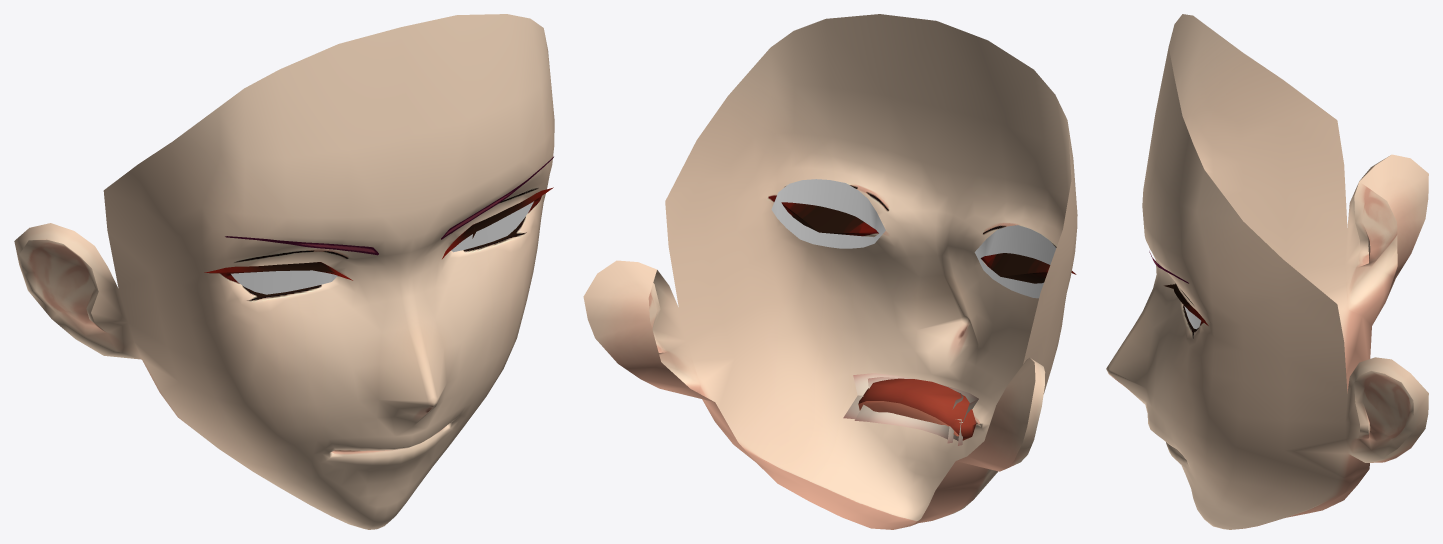
Rendered from Ibara.fbx.
3 renders of one model, left to right at view 1: azimuth 30°, elevation 25°; view 2: azimuth 150°, elevation 25°; view 3: azimuth 270°, elevation 25°, orthographic. The views are drawn at different scales.
Visible parts, largest first — view 1: M_Head, M_Eye_B_Def, M_Mth_B_Def, M_PupALL_R_A_Def, M_Brw_B_Def, M_PupALL_L_A_Def; view 2: M_Head, M_Eye_B_Def, M_Mth_B_Def, M_PupALL_L_A_Def, M_PupALL_R_A_Def; view 3: M_Head, M_Eye_B_Def, M_Mth_B_Def.
Boxes of the visible parts, x1,y1,x2,y2 form: M_Head: (14, 14, 554, 381); M_Eye_B_Def: (142, 121, 554, 406); M_Mth_B_Def: (142, 339, 516, 529); M_PupALL_R_A_Def: (231, 270, 337, 294); M_Brw_B_Def: (225, 156, 553, 255); M_PupALL_L_A_Def: (451, 201, 533, 252); M_Head: (583, 14, 1077, 471); M_Eye_B_Def: (700, 133, 1077, 393); M_Mth_B_Def: (699, 319, 1018, 529); M_PupALL_L_A_Def: (771, 179, 885, 248); M_PupALL_R_A_Def: (974, 225, 1056, 298); M_Head: (1142, 14, 1428, 462); M_Eye_B_Def: (1106, 108, 1286, 450); M_Mth_B_Def: (1106, 309, 1371, 529).
Size of the model in its own units: 0.1778 by 0.1791 by 0.109.
Materials: 5 (3 with a texture image).
